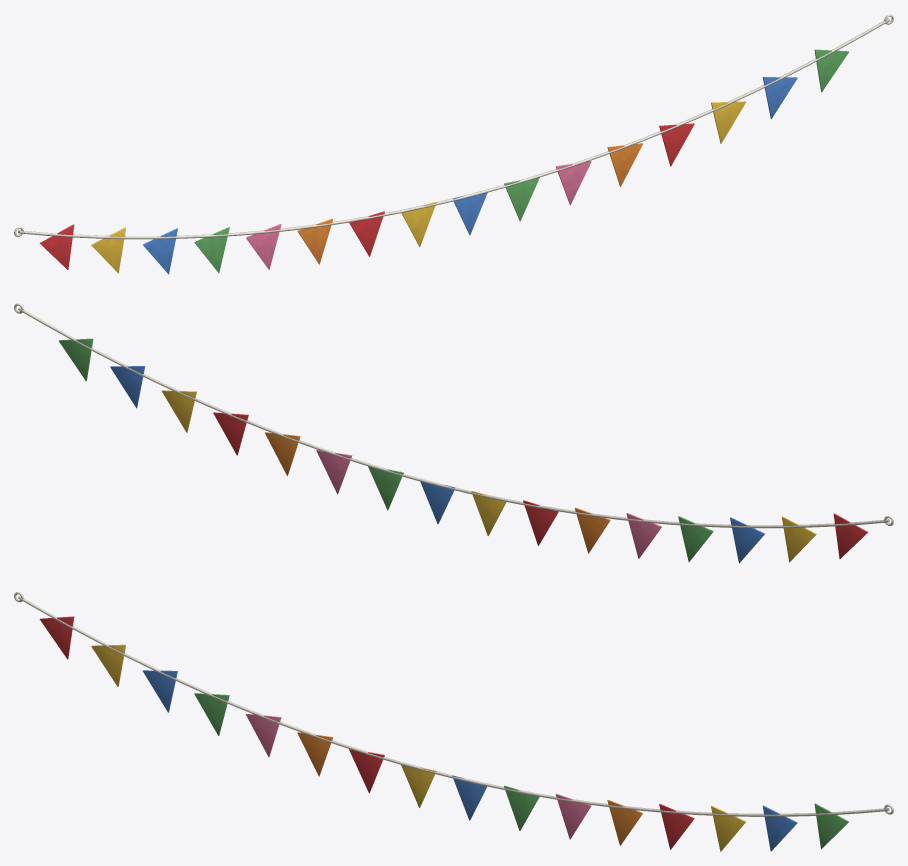
File: Bunting.fbx
3 renders of one model, top to bottom at view 1: azimuth 30°, elevation 25°; view 2: azimuth 150°, elevation 25°; view 3: azimuth 330°, elevation 25°, orthographic.
Visible parts, largest first — view 1: Bunting; view 2: Bunting; view 3: Bunting.
Part boxes in pixels (x1,y1,x2,y2): Bunting: (14, 14, 893, 274); Bunting: (14, 303, 893, 563); Bunting: (14, 592, 893, 851).
Size of the model in its own units: 16.18 by 2.08 by 0.05.
1 material, 1 textured.
